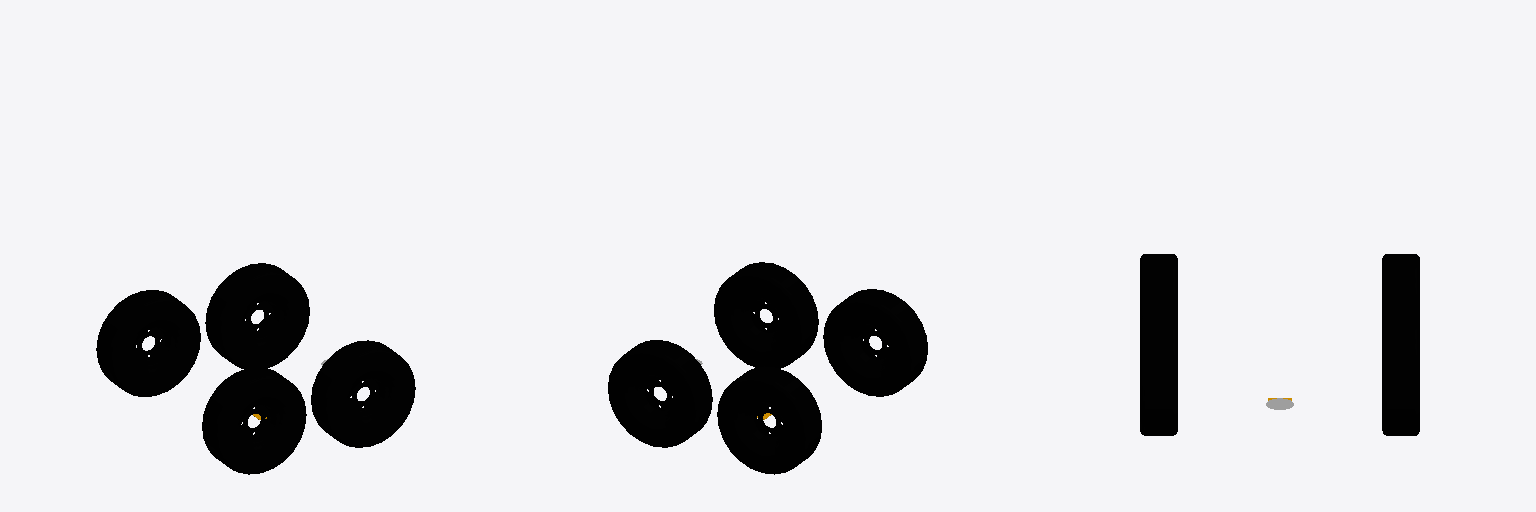
URDF robot description (wp_v4):
<?xml version="1.0"?>
<robot name="wp_v4">

  <!-- material -->
  <material name = "black">
    <color rgba = "0.01 0.01 0.01 1"/>
  </material>
  <material name = "grey">
    <color rgba = "0.2 0.2 0.2 1"/>
  </material>
  <material name = "blue">
    <color rgba = "0.2 0.2 0.9 1"/>
  </material>


<link name="base_footprint">
    <visual>
      <origin xyz="0 0 0" rpy="0 0 0" />
      <geometry>
        <box size="0.05 0.05 0.001" />
      </geometry>
      <material name="TransparentGreen" />
    </visual>
    <collision>
      <origin xyz="0 0 .1" rpy="0 0 0" />
      <geometry>
        <box size="0.76 0.5 .2"/>
      </geometry>
    </collision>
    <inertial>
    <mass value="10"/>
    <inertia ixx="0.4" ixy="0.0" ixz="0.0" iyy="0.4" iyz="0.0" izz="0.2"/>
    </inertial>
</link>

<joint name="base_joint" type="fixed">
  <origin xyz="0 0 0.09" rpy="0 0 0" />
  <parent link="base_footprint"/>
  <child link="base_link" />
</joint>

  <!-- base -->
  <link name="base_link">
  <visual>
   <geometry>
    <cylinder length="0.6" radius="0.0"/>
   </geometry>
   <origin rpy = "0 0 0" xyz = "0 0 0"/>
  </visual>
  </link>

  <!-- body -->
  <link name = "body_link">
    <visual>
      <geometry>
        <mesh filename="package://wpv4/meshes/body.dae" scale="1 1 1"/>
      </geometry>
      <origin rpy = "1.57 0 1.57" xyz = "-0.38 -0.25 0"/>
    </visual>
    <collision>
      <origin xyz="0 0 .15" rpy="0 0 0" />
      <geometry>
        <box size="0.76 0.5 0.095"/>
      </geometry>
    </collision>
    <inertial>
    <mass value="10"/>
    <inertia ixx="0.4" ixy="0.0" ixz="0.0" iyy="0.4" iyz="0.0" izz="0.2"/>
    </inertial>
  </link>
  <joint name = "base_to_body" type = "fixed">
    <parent link = "base_link"/>
    <child link = "body_link"/>
    <origin rpy="0 0 0" xyz="0 0 0"/> <!--pos-->
  </joint>
  <gazebo reference = "body_link">
            <turnGravityOff>false</turnGravityOff>
  </gazebo>

  <!-- wheel -->
  <link name = "lf_wheel">
    <visual>
      <geometry>
        <mesh filename="package://wpv4/meshes/wheel.dae" scale="1 1 1"/>
      </geometry>
      <origin rpy = "0 0 0" xyz = "-0.13  -0.04 -0.13"/>
      <material name = "black"/>
    </visual>
    <collision>
      <origin xyz="0 0 0" rpy="1.57 0 0" />
      <geometry>
        <cylinder radius="0.13" length="0.08"/>
      </geometry>
    </collision>
    <inertial>
    <mass value="10"/>
    <inertia ixx="0.4" ixy="0.0" ixz="0.0" iyy="0.4" iyz="0.0" izz="0.2"/>
    </inertial>
  </link>
  <joint name = "base_to_lf_wheal" type = "continuous">
    <axis rpy="0 0 0" xyz="0 1 0"/>
    <parent link = "base_link"/>
    <child link = "lf_wheel"/>
    <origin rpy="0 0 0" xyz="0.135 0.26 0.038"/> <!--pos to base-->
  </joint>
   <gazebo reference = "lf_wheel">
            <mu1 value = "1.0"/>
            <mu2 value = "1.0"/>
            <kp value = "10.0"/>
            <kd value = "1.0"/>
            <fdir1 value = "1 0 0"/>
            <turnGravityOff>true</turnGravityOff>
  </gazebo>

<link name = "rf_wheel">
  <visual>
    <geometry>
      <mesh filename="package://wpv4/meshes/wheel.dae" scale="1 1 1"/>
    </geometry>
    <origin rpy = "0 0 0" xyz = "-0.13  -0.04 -0.13"/>
    <material name = "black"/>
  </visual>
  <collision>
    <origin xyz="0 0 0" rpy="1.57 0 0" />
    <geometry>
      <cylinder radius="0.13" length="0.08"/>
    </geometry>
  </collision>
  <inertial>
  <mass value="10"/>
  <inertia ixx="0.4" ixy="0.0" ixz="0.0" iyy="0.4" iyz="0.0" izz="0.2"/>
  </inertial>
</link>
<joint name = "base_to_rf_wheal" type = "continuous">
  <axis rpy="0 0 0" xyz="0 -1 0"/>
  <parent link = "base_link"/>
  <child link = "rf_wheel"/>
  <origin rpy="0 0 3.14" xyz="0.135 -0.26 0.038"/> <!--pos-->
</joint>
 <gazebo reference = "rf_wheel">
            <mu1 value = "1.0"/>
            <mu2 value = "1.0"/>
            <kp value = "10.0"/>
            <kd value = "1.0"/>
            <fdir1 value = "1 0 0"/>
            <turnGravityOff>false</turnGravityOff>
        </gazebo>

<link name = "lb_wheel">
  <visual>
    <geometry>
      <mesh filename="package://wpv4/meshes/wheel.dae" scale="1 1 1"/>
    </geometry>
    <origin rpy = "0 0 0" xyz = "-0.13  -0.04 -0.13"/>
    <material name = "black"/>
  </visual>
  <collision>
    <origin xyz="0 0 0" rpy="1.57 0 0" />
    <geometry>
      <cylinder radius="0.13" length="0.08"/>
    </geometry>
  </collision>
  <inertial>
  <mass value="10"/>
  <inertia ixx="0.4" ixy="0.0" ixz="0.0" iyy="0.4" iyz="0.0" izz="0.2"/>
  </inertial>
</link>
<joint name = "base_to_lb_wheal" type = "continuous">
  <axis rpy="0 0 0" xyz="0 1 0"/>
  <parent link = "base_link"/>
  <child link = "lb_wheel"/>
  <origin rpy="0 0 0" xyz="-0.175 0.26 0.038"/> <!--pos to base-->
</joint>
 <gazebo reference = "lb_wheel">
            <mu1 value = "1.0"/>
            <mu2 value = "1.0"/>
            <kp value = "10.0"/>
            <kd value = "1.0"/>
            <fdir1 value = "1 0 0"/>
            <material>Gazebo/Black</material>
            <turnGravityOff>false</turnGravityOff>
        </gazebo>

<link name = "rb_wheel">
  <visual>
    <geometry>
      <mesh filename="package://wpv4/meshes/wheel.dae" scale="1 1 1"/>
    </geometry>
    <origin rpy = "0 0 0" xyz = "-0.13  -0.04 -0.13"/>
    <material name = "black"/>
  </visual>
  <collision>
    <origin xyz="0 0 0" rpy="1.57 0 0" />
    <geometry>
      <cylinder radius="0.13" length="0.08"/>
    </geometry>
  </collision>
  <inertial>
  <mass value="10"/>
  <inertia ixx="0.4" ixy="0.0" ixz="0.0" iyy="0.4" iyz="0.0" izz="0.2"/>
  </inertial>
</link>
<joint name = "base_to_rb_wheal" type = "continuous">
  <axis rpy="0 0 0" xyz="0 -1 0"/>
  <parent link = "base_link"/>
  <child link = "rb_wheel"/>
  <origin rpy="0 0 3.14" xyz="-0.175 -0.26 0.038"/> <!--pos-->
</joint>
 <gazebo reference = "rb_wheel">
            <mu1 value = "1.0"/>
            <mu2 value = "1.0"/>
            <kp value = "10.0"/>
            <kd value = "1.0"/>
            <fdir1 value = "1 0 0"/>
            <material>Gazebo/Black</material>
            <turnGravityOff>false</turnGravityOff>
        </gazebo>

<!-- Lidar -->
<link name = "laser">
  <visual>
   <geometry>
    <cylinder length="0.00" radius="0.03"/>
   </geometry>
   <origin rpy = "0 0 0" xyz = "0 0 0"/>
  </visual>
  <collision>
    <origin xyz="0 0 0" rpy="0 0 0" />
    <geometry>
      <cylinder radius="0.03" length="0.03"/>
    </geometry>
  </collision>
  <inertial>
  <mass value="10"/>
  <inertia ixx="0.4" ixy="0.0" ixz="0.0" iyy="0.4" iyz="0.0" izz="0.2"/>
  </inertial>
</link>
<joint name="laser_joint" type="fixed">
    <origin rpy="0 0 0" xyz="0.2 0 0"  /> <!--pos-->
    <parent link="base_link" />
    <child link="laser" />
</joint>

<!-- Kinect -->
<link name = "kinect2_ir_optical_frame">
  <visual>
   <geometry>
    <!-- <box size=".25 .04 .07"/> -->
    <box size="0 0 0"/>
   </geometry>
   <origin rpy = "0 0 0" xyz = "0 0 0"/>
   <material name = "blue"/>
  </visual>
  <collision>
      <origin xyz="0 0 0" rpy="0 0 0" />
      <geometry>
        <box size=".25 .04 .07"/>
      </geometry>
    </collision>
    <inertial>
    <mass value="10"/>
    <inertia ixx="0.4" ixy="0.0" ixz="0.0" iyy="0.4" iyz="0.0" izz="0.2"/>
    </inertial>
</link>
<joint name="kinect_joint" type="fixed">
    <origin xyz="0.2 0 0.2" rpy="-1.5707963 0 -1.5707963" /> <!--pos-->
    <parent link="base_link" />
    <child link="kinect2_ir_optical_frame" />
</joint>

 <!-- ****manipulator ****-->
         <link name = "mani_base">
            <visual>
                <geometry>
                    <mesh filename="package://wpm1/meshes/wpm1_base.dae" scale="1 1 1"/>
                </geometry>
                <origin rpy = "1.57 0 3.14" xyz = ".066 -0.075 0"/>
            </visual>
        </link>
        <joint name = "base_mani" type = "fixed">
            <parent link = "base_link"/>
            <child link = "mani_base"/>
            <origin xyz = "0.24 0 .16"/>
        </joint>
        <!-- mani_part_1 -->
        <link name = "mani_part_1">
            <visual>
                <geometry>
                    <mesh filename="package://wpm1/meshes/wpm1_joint1.dae" scale="1 1 1"/>
                </geometry>
                <origin rpy = "0 3.14 0" xyz = "0.0492 -0.048 .0866"/>
            </visual>
        </link>
         <joint name = "mani_base_1" type = "revolute">
            <parent link = "mani_base"/>
            <child link = "mani_part_1"/>
            <axis xyz = "0 0 1"/>
            <origin xyz = "0 0 0.08"/>
            <limit effort = "1000.0" lower="-3.14" upper="3.14" velocity="0.5"/>
        </joint>
        <!-- mani_part_2 -->
         <link name = "mani_part_2">
            <visual>
                <geometry>
                    <mesh filename="package://wpm1/meshes/wpm1_joint2.dae" scale="1 1 1"/>
                </geometry>
                <origin rpy = "1.57 0 0" xyz = " -0.0425 0.0725 -0.0425"/>
            </visual>
        </link>
         <joint name = "mani_1_2" type = "revolute">
            <parent link = "mani_part_1"/>
            <child link = "mani_part_2"/>
            <axis xyz = "0 1 0"/>
            <origin xyz = "0 0.05 0.044"/>
            <limit effort = "1000.0" lower="-3.14" upper="3.14" velocity="0.5"/>
        </joint>
        <!-- mani_part_3 -->
        <link name = "mani_part_3">
            <visual>
                <geometry>
                    <mesh filename="package://wpm1/meshes/wpm1_joint3.dae" scale="1 1 1"/>
                </geometry>
                <origin rpy = "1.57 0 3.14" xyz = "0.04 -0.0886 -0.04"/>
            </visual>
        </link>
         <joint name = "mani_2_3" type = "revolute">
            <parent link = "mani_part_2"/>
            <child link = "mani_part_3"/>
            <axis xyz = "0 1 0"/>
            <origin xyz = "0 0 0.15"/>
            <limit effort = "1000.0" lower="-3.14" upper="3.14" velocity="0.5"/>
        </joint>
        <!-- mani_part_4 -->
         <link name = "mani_part_4">
            <visual>
                <geometry>
                    <mesh filename="package://wpm1/meshes/wpm1_joint4.dae" scale="1 1 1"/>
                </geometry>
                <origin rpy = "1.57 0 0" xyz = "-0.04 0.04 -0.001"/>
            </visual>
        </link>
         <joint name = "mani_3_4" type = "revolute">
            <parent link = "mani_part_3"/>
            <child link = "mani_part_4"/>
            <axis xyz = "0 0 1"/>
            <origin xyz = "0 -0.0486 0.057"/>
            <limit effort = "1000.0" lower="-3.14" upper="3.14" velocity="0.5"/>
        </joint>
         <!-- mani_part_5 -->
        <link name = "mani_part_5">
            <visual>
               <geometry>
                    <mesh filename="package://wpm1/meshes/wpm1_joint5.dae" scale="1 1 1"/>
                </geometry>
                <origin rpy = "0 0 1.57" xyz = "0.04 -0.04 -0.037"/>
            </visual>
        </link>
         <joint name = "mani_4_5" type = "revolute">
            <parent link = "mani_part_4"/>
            <child link = "mani_part_5"/>
            <axis xyz = "0 1 0"/>
            <origin xyz = "0 0 0.155"/>
            <limit effort = "1000.0" lower="-3.14" upper="3.14" velocity="0.5"/>
        </joint>

        <!-- mani_part_6 palm-->
         <link name = "mani_part_6">
            <visual>
                <geometry>
                    <mesh filename="package://wpm1/meshes/wpm1_gripper.dae" scale="1 1 1"/>
                </geometry>
                <origin rpy = "3.14 0 0" xyz = "-0.0525 0.033 0.1656"/>
            </visual>
        </link>
         <joint name = "mani_5_6" type = "revolute">
            <parent link = "mani_part_5"/>
            <child link = "mani_part_6"/>
            <axis xyz = "0 0 1"/>
            <origin xyz = "0 0 0.20"/>
            <limit effort = "1000.0" lower="-3.14" upper="3.14" velocity="0.5"/>
        </joint>

        <!-- finger -->
         <link name = "mani_left_finger">
            <visual>
                <geometry>
                    <box size="0 0 0"/>
                </geometry>
                    <material name = "grey"/>
                <origin rpy = "1.57 0 -1.57" xyz = ".021 0.005 -0.005"/>
            </visual>
        </link>
        <joint name = "mani_palm_finger" type = "revolute">
            <parent link = "mani_part_6"/>
            <child link = "mani_left_finger"/>
            <origin xyz = "0.015 0 0.072"/>
            <axis xyz = "-1 0 0"/>
            <limit effort = "1000.0" lower="0" upper="1.0" velocity="0.5"/>
        </joint>

         <link name = "mani_right_finger">
            <visual>
                <geometry>
                    <box size="0 0 0"/>
                </geometry>
                    <material name = "grey"/>
                <origin rpy = "1.57 0 1.57" xyz = "-0.0175 -0.005 -0.005"/>
            </visual>
        </link>
        <joint name = "mani_palm_right_finger" type = "revolute">
            <parent link = "mani_part_6"/>
            <child link = "mani_right_finger"/>
            <origin xyz = "-0.015 0 0.072"/>
            <axis xyz = "1 0 0"/>
            <limit effort = "1000.0" lower="0" upper="1.0" velocity="0.5"/>
            <mimic joint = "mani_palm_finger" multiplier = "1" offset = "0"/>
        </joint>
        <!-- *****************-->

<!-- Gazebo plugin for ROS Control -->
<gazebo>
  <plugin name="gazebo_ros_control" filename="libgazebo_ros_control.so">
    <robotNamespace>/</robotNamespace>
  </plugin>
</gazebo>

</robot>

--- Render facts (derived) ---
The picture shows the robot from 3 angles, left to right: view 1: azimuth 30°, elevation 25°; view 2: azimuth 150°, elevation 25°; view 3: azimuth 270°, elevation 25°; orthographic projection.
Model wp_v4 with 18 links and 17 joints (8 revolute, 4 continuous, 5 fixed), rooted at base_footprint, posed all joints at 0.
Visible links, largest first — view 1: rb_wheel, rf_wheel, lb_wheel, lf_wheel; view 2: lf_wheel, rb_wheel, lb_wheel, rf_wheel; view 3: lf_wheel, rf_wheel, lb_wheel, rb_wheel.
Link boxes in pixels (box(x1,y1,x2,y2)): rb_wheel: box(202, 367, 306, 474); rf_wheel: box(311, 340, 415, 447); lb_wheel: box(96, 290, 200, 396); lf_wheel: box(205, 263, 309, 368); lf_wheel: box(608, 340, 712, 447); rb_wheel: box(823, 289, 927, 396); lb_wheel: box(717, 366, 821, 474); rf_wheel: box(714, 262, 818, 368); lf_wheel: box(1382, 315, 1419, 435); rf_wheel: box(1140, 315, 1177, 435); lb_wheel: box(1382, 254, 1419, 318); rb_wheel: box(1140, 254, 1177, 318).
Bounding box of the posed robot: 0.581 × 0.6002 × 1.21 m (x, y, z).
Meshes: 9 distinct files referenced, 4 mesh visuals loaded (1 Collada DAE); not drawn: 7 (reference not matched to a file when rendering), 1 (file found but could not be loaded).
